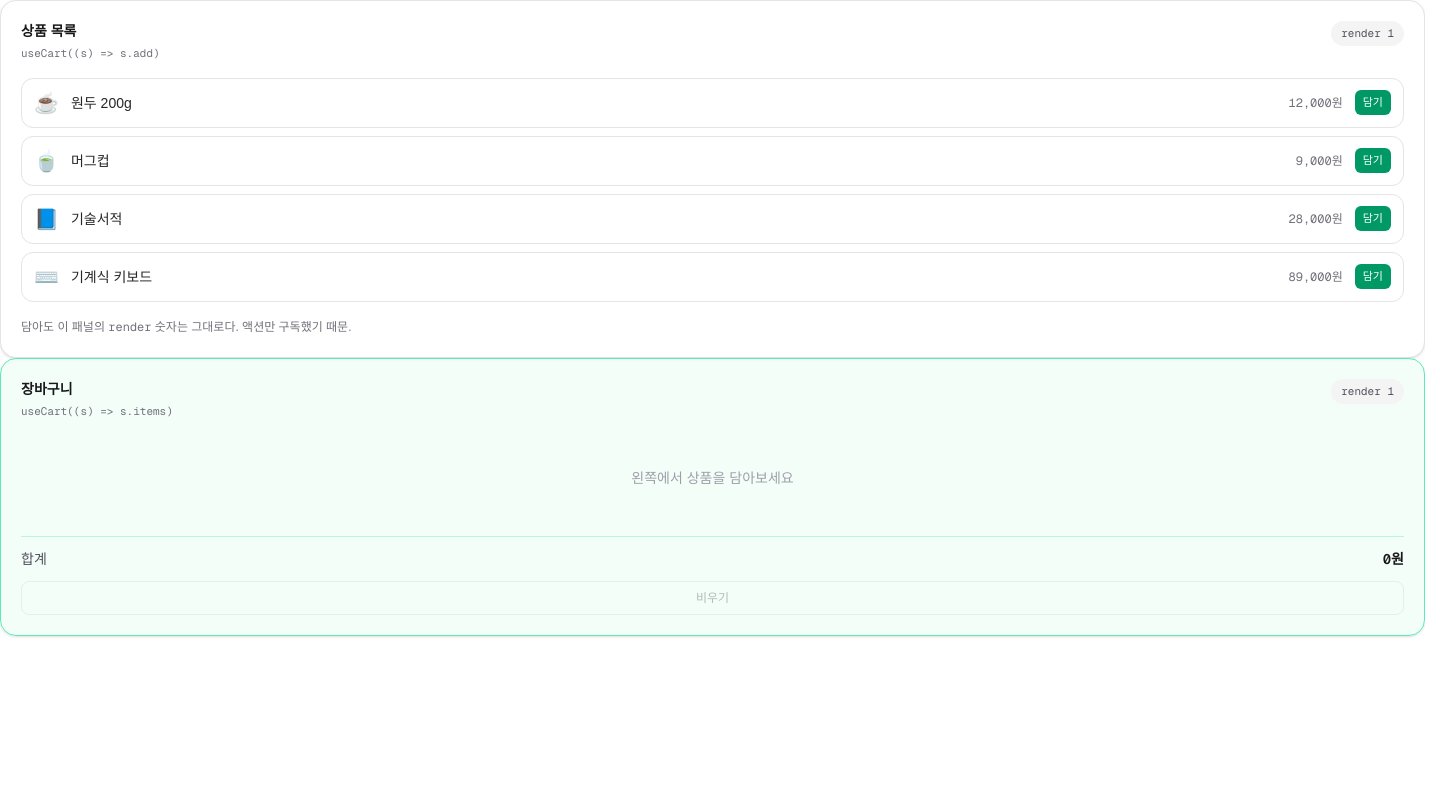
Test: 빼기 버튼으로 수량을 줄이면 장바구니에서 사라진다
Click the button "☕ 원두 200g 12,000원 담기" at (101,102), box [21,78,1404,128]
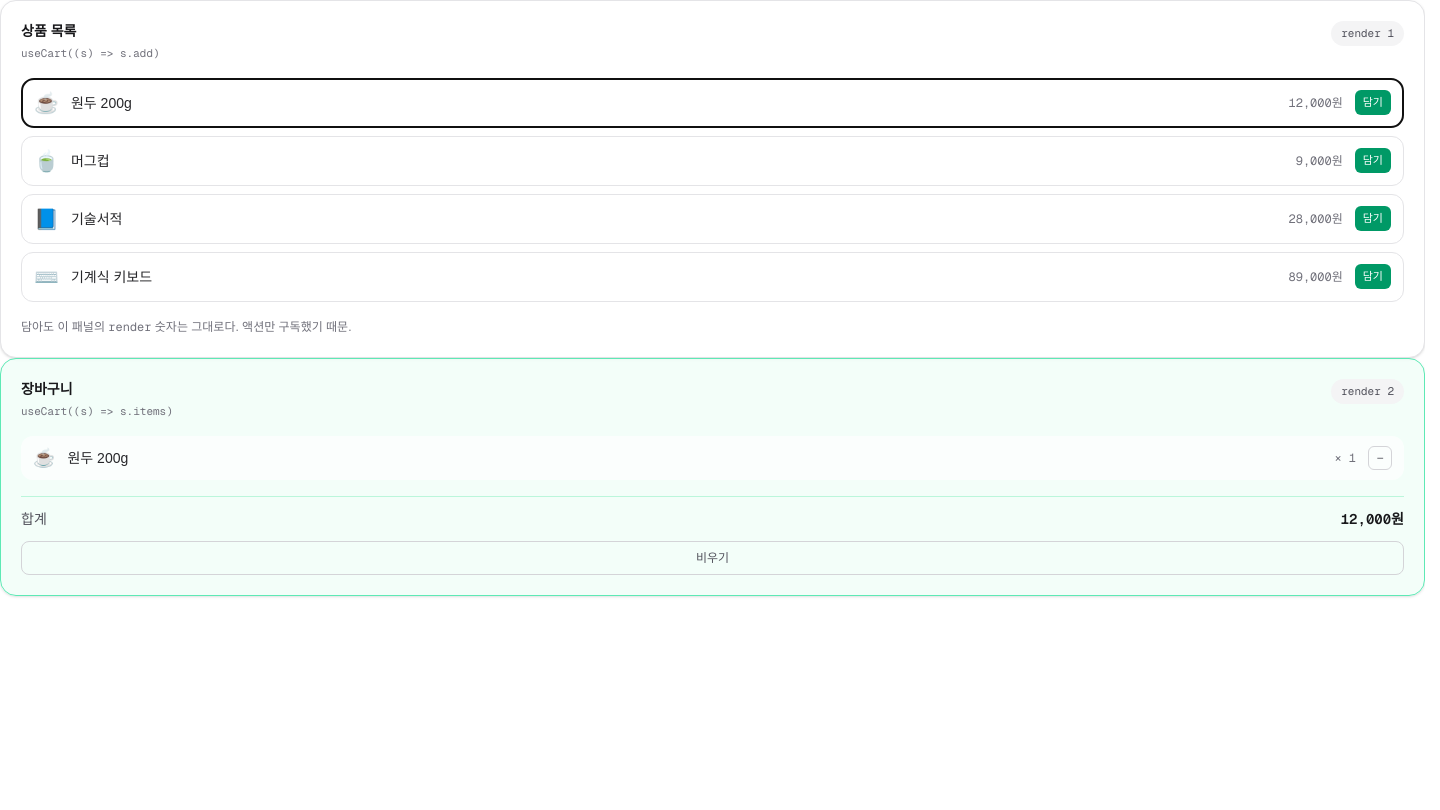
aria-label 덕분에 이렇게 찾을 수 있다. 스크린리더가 읽는 이름과 같은 이름이다.
Click the button named "원두 200g 하나 빼기" at (1380,458), box [1368,446,1392,470]
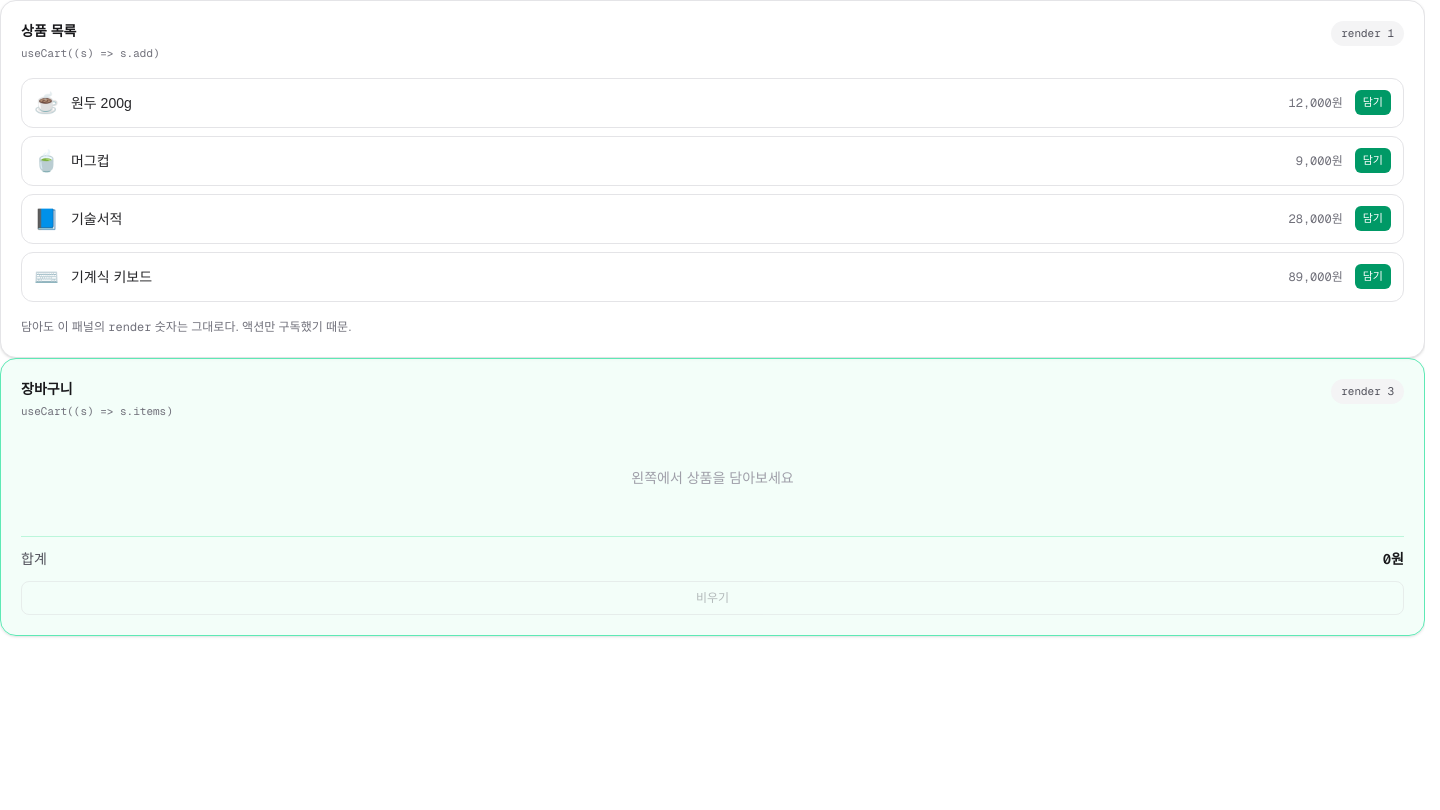
Expected: the text "왼쪽에서 상품을 담아보세요" is shown, [631,470,794,486]
